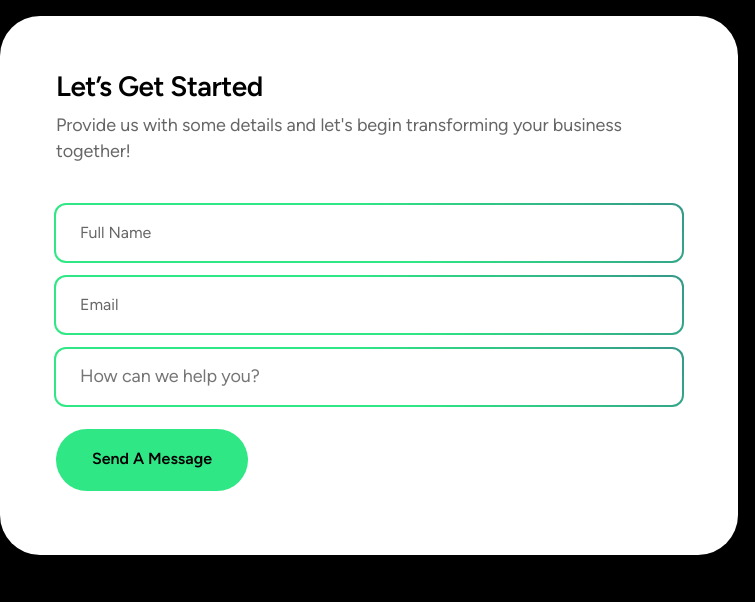
Test: Form › failure. input short name
This screenshot has width=755, height=602.
Type "n" into the field labelled "full name" at point(369, 233), box [56,205,682,261]
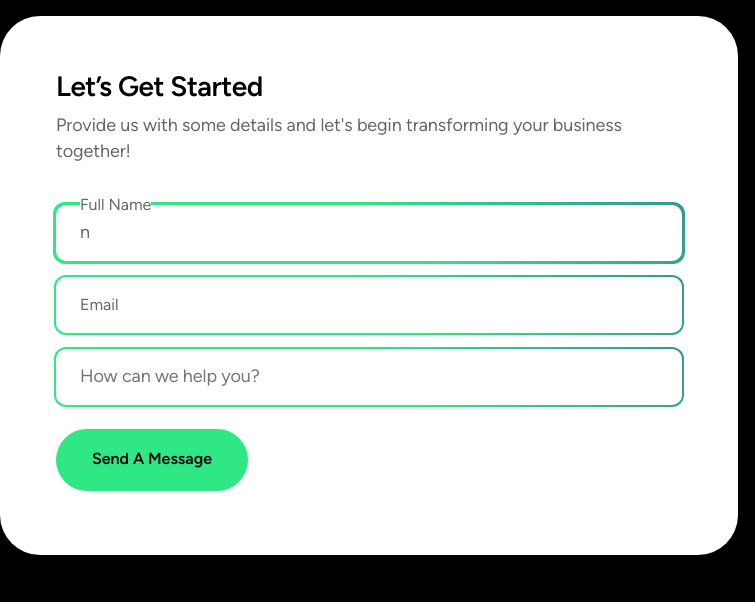
Click the button at point(152, 460), box [56,429,248,491]
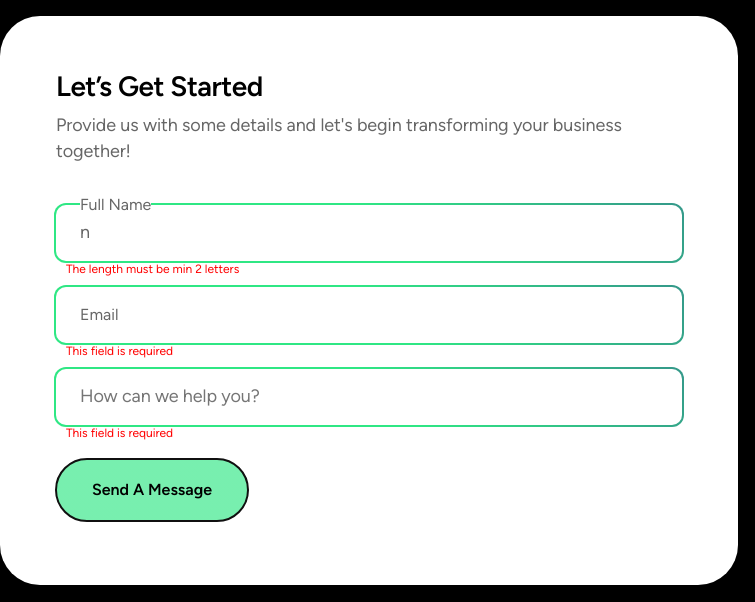
Check: the text with test id "fullName" reads "The length must be min 2 letters", box [66,262,239,276]
